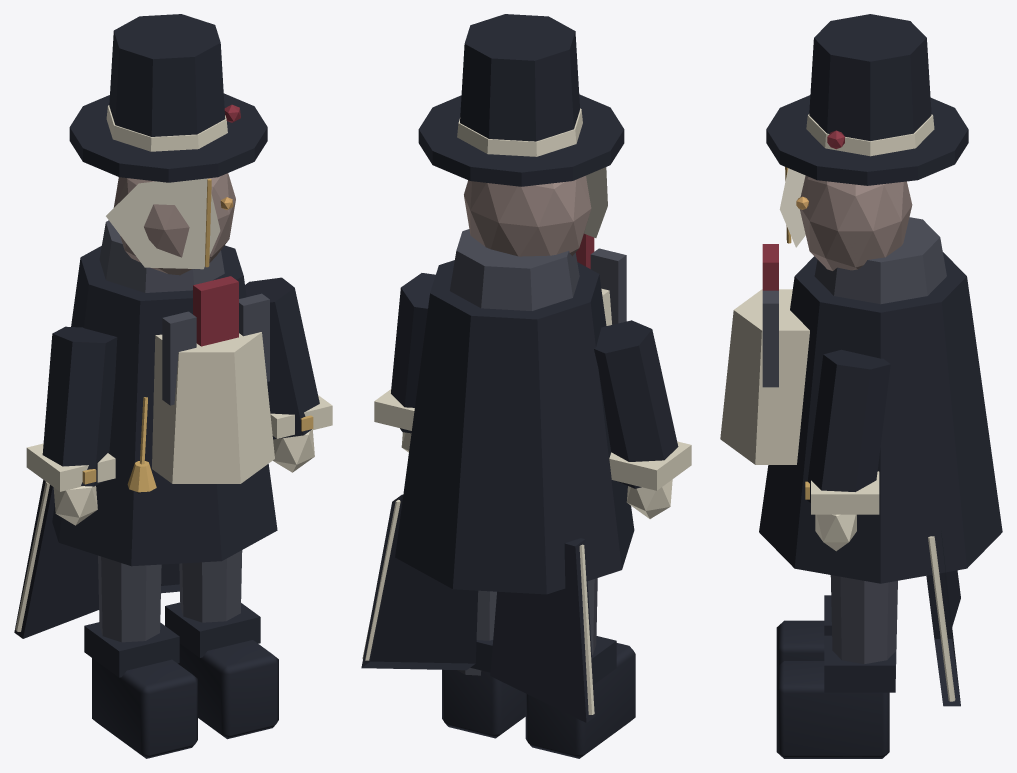
File: contrarregra.glb
3 views of the same model, side by side, from view 1: azimuth 30°, elevation 25°; view 2: azimuth 150°, elevation 25°; view 3: azimuth 270°, elevation 25° (orthographic). The views are drawn at different scales.
Visible parts, largest first — view 1: tailored coat body, ivory waistcoat, hat crown, L arm, hat brim, L boot, R boot, L split coat tail, single-piece porcelain half mask, R arm, L trouser, unmasked face (+15 smaller); view 2: tailored coat body, hat crown, L split coat tail, R split coat tail, hat brim, L arm, unmasked face, high collar, L boot, R boot, R arm, L cuff (+10 smaller); view 3: tailored coat body, hat crown, ivory waistcoat, R arm, R boot, hat brim, unmasked face, high collar, R trouser, R boot top, L boot, R cuff (+8 smaller).
Part boxes in pixels (left/top/right/bottom): tailored coat body: left=52, top=245, right=277, bottom=566; ivory waistcoat: left=152, top=332, right=274, bottom=483; hat crown: left=109, top=14, right=225, bottom=136; L arm: left=42, top=326, right=117, bottom=486; hat brim: left=69, top=93, right=267, bottom=182; L boot: left=92, top=658, right=197, bottom=758; R boot: left=178, top=640, right=278, bottom=739; L split coat tail: left=14, top=480, right=98, bottom=638; single-piece porcelain half mask: left=106, top=178, right=220, bottom=269; R arm: left=245, top=277, right=319, bottom=439; L trouser: left=98, top=555, right=161, bottom=642; unmasked face: left=113, top=173, right=235, bottom=275; tailored coat body: left=395, top=260, right=634, bottom=594; hat crown: left=460, top=14, right=579, bottom=141; L split coat tail: left=490, top=538, right=595, bottom=722; R split coat tail: left=361, top=494, right=478, bottom=670; hat brim: left=418, top=94, right=624, bottom=186; L arm: left=594, top=320, right=678, bottom=488; unmasked face: left=464, top=175, right=591, bottom=256; high collar: left=450, top=229, right=579, bottom=310; L boot: left=525, top=643, right=635, bottom=758; R boot: left=442, top=669, right=525, bottom=738; R arm: left=391, top=273, right=435, bottom=433; L cuff: left=609, top=441, right=691, bottom=490; tailored coat body: left=759, top=252, right=1002, bottom=583; hat crown: left=809, top=14, right=931, bottom=140; ivory waistcoat: left=720, top=289, right=809, bottom=464; R arm: left=806, top=349, right=890, bottom=502; R boot: left=776, top=661, right=889, bottom=758; hat brim: left=766, top=95, right=968, bottom=185; unmasked face: left=799, top=175, right=912, bottom=270; high collar: left=814, top=217, right=946, bottom=304; R trouser: left=830, top=575, right=897, bottom=678; R boot top: left=824, top=635, right=895, bottom=692; L boot: left=776, top=620, right=824, bottom=667; R cuff: left=811, top=471, right=879, bottom=514.
Size of the model in its own units: 1.08 by 2.56 by 0.95.
